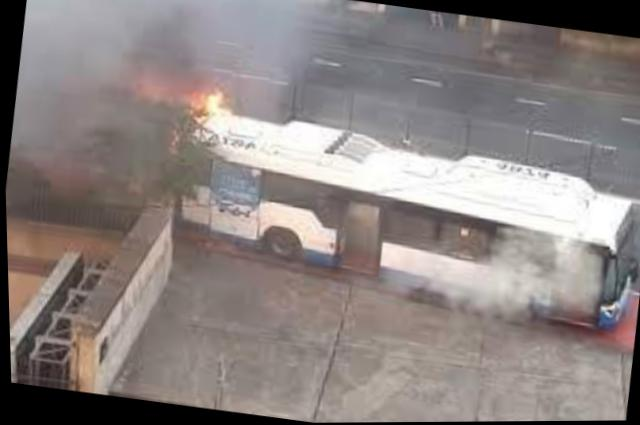fire: (180, 72, 244, 141)
